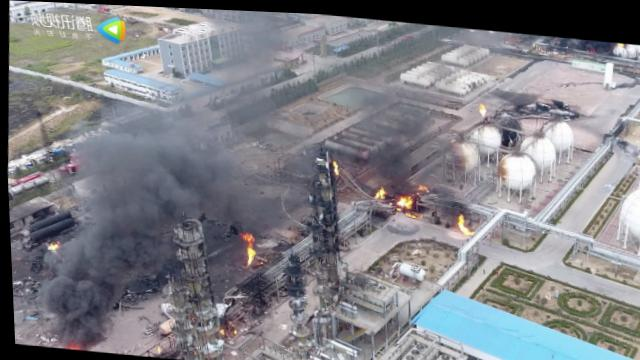fire: (394, 190, 413, 204), (243, 244, 253, 265), (239, 229, 254, 242), (458, 221, 471, 231), (373, 183, 383, 196), (476, 97, 486, 110), (454, 211, 464, 223), (403, 208, 419, 215), (45, 242, 58, 250), (331, 157, 337, 173), (415, 180, 428, 187)
